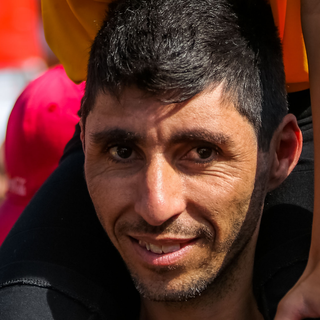eye: (179, 141, 228, 166), (104, 139, 142, 165)
